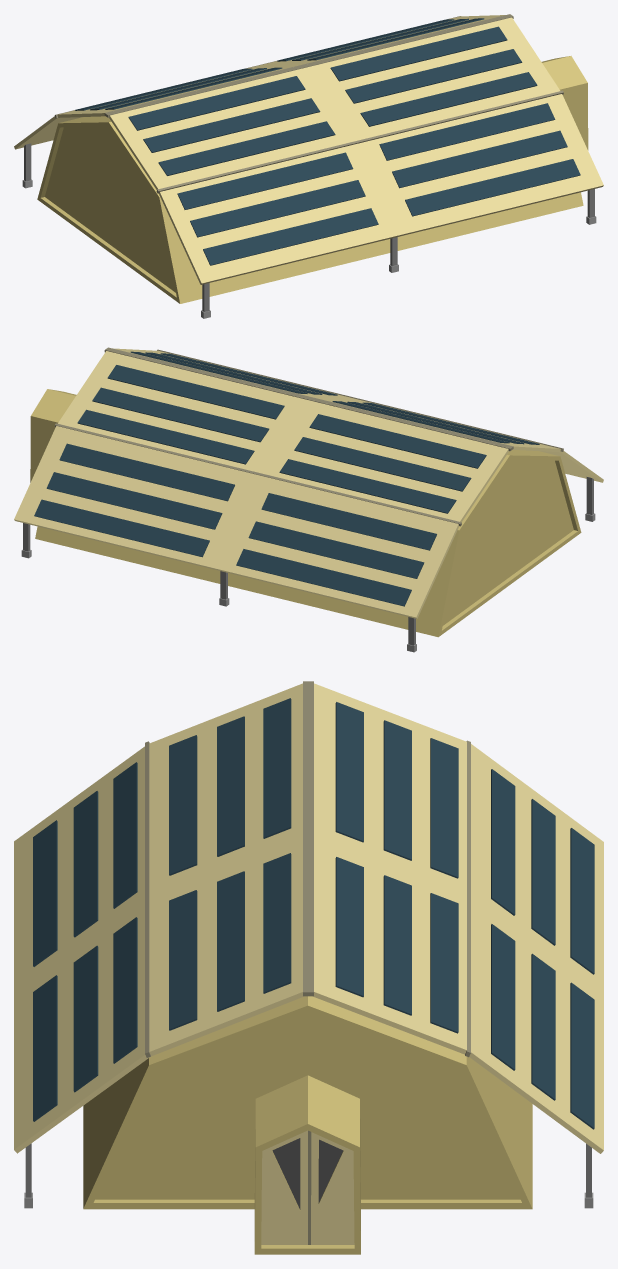
The model's file is tent2.fbx.
The picture shows the model from 3 angles, top to bottom: view 1: azimuth 30°, elevation 25°; view 2: azimuth 150°, elevation 25°; view 3: azimuth 270°, elevation 25°; orthographic projection. The views are drawn at different scales.
Visible parts, largest first — view 1: Cylinder_6; view 2: Cylinder_6; view 3: Cylinder_6.
Boxes of the visible parts, <box> form: Cylinder_6: <box>14,14,603,318</box>; Cylinder_6: <box>14,347,603,652</box>; Cylinder_6: <box>14,681,603,1254</box>.
Size of the model in its own units: 1593 by 459 by 1114.
